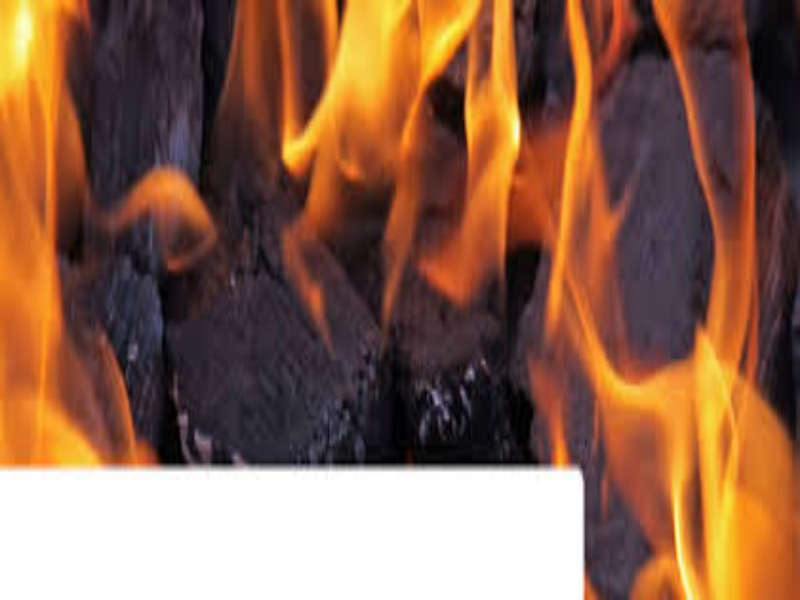fire: (229, 3, 800, 467), (1, 1, 220, 457), (598, 465, 799, 598)
